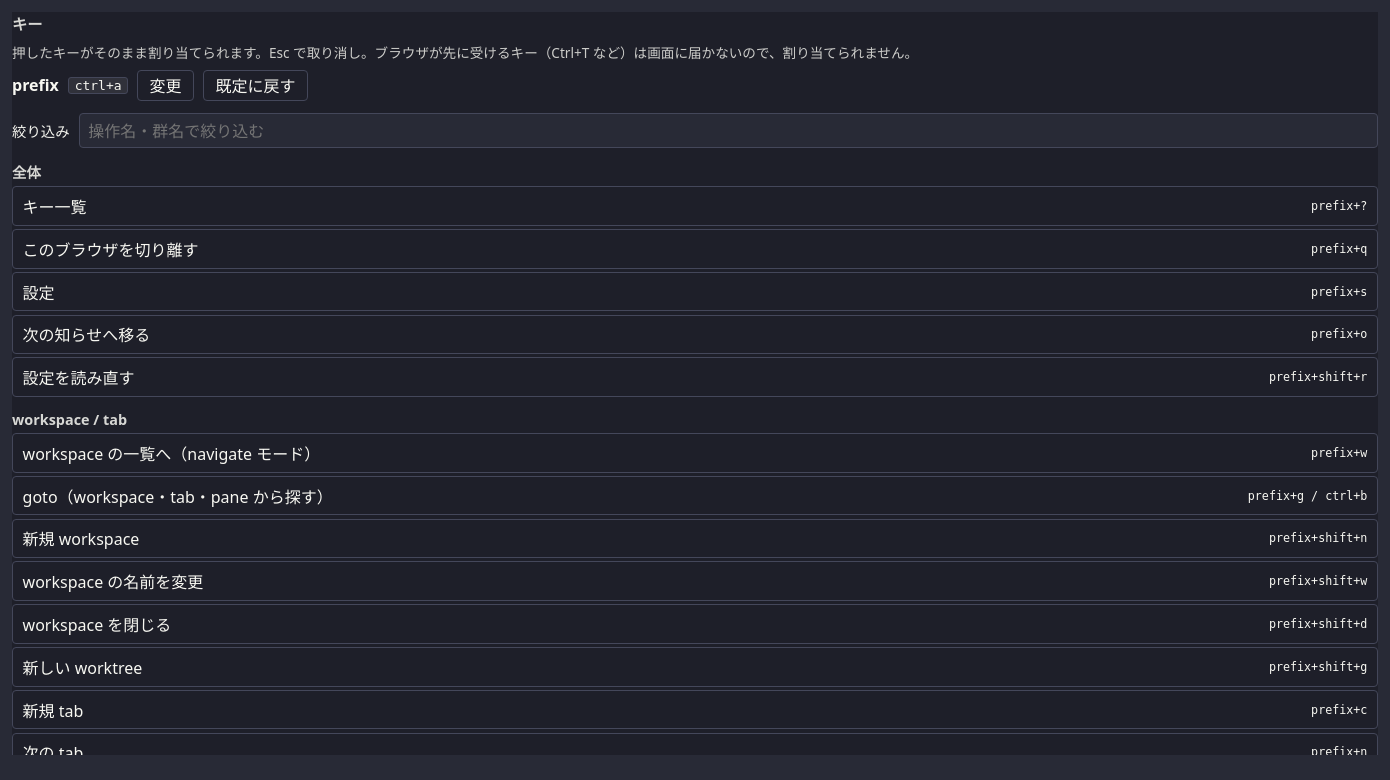
Test: KeySettings — prefix の既定へ戻す（AC9） › 既定の ctrl+b が直接のキー・prefix の後のキーに使われていれば戻さず、理由（持ち主の名前）を出す
The image size is (1390, 780).
Click the button "既定に戻す".
click(256, 85)  # box [203,70,308,101]
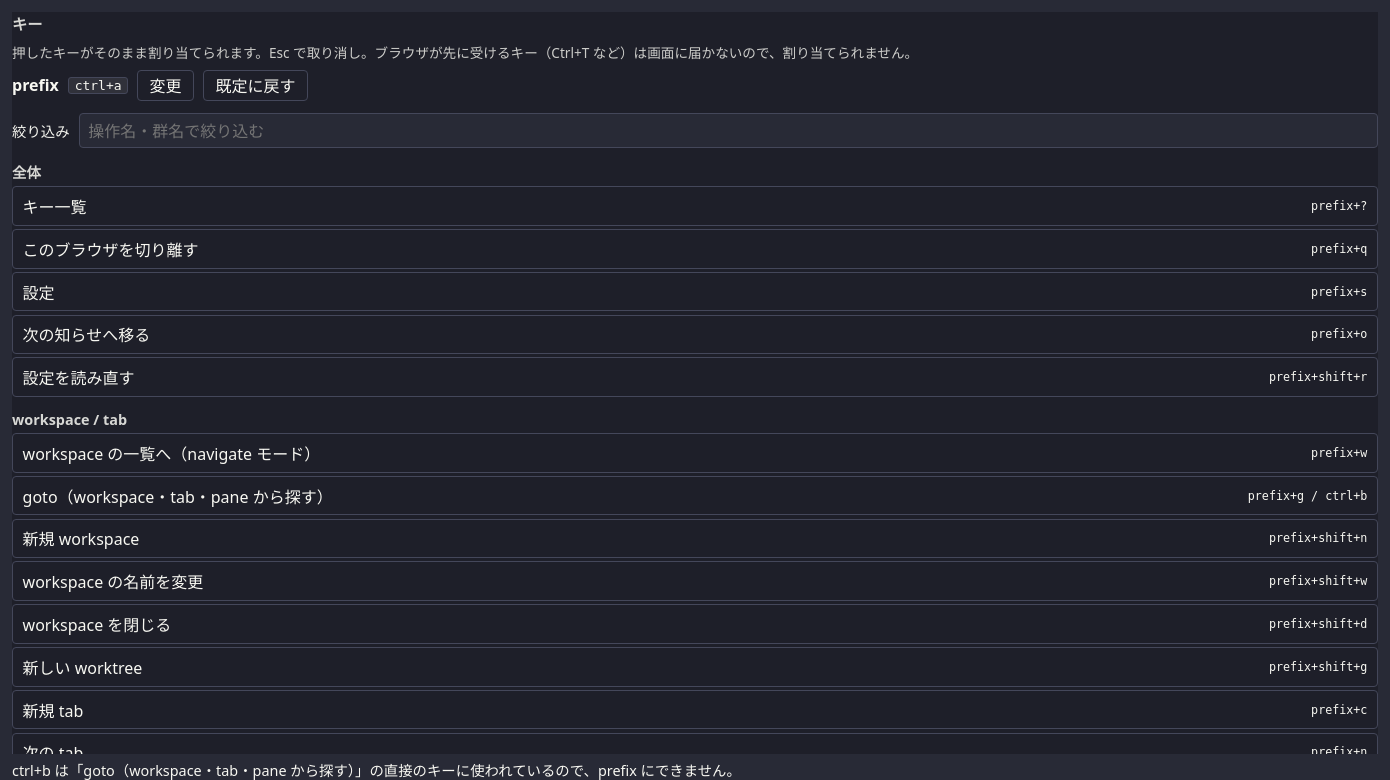
Check: the text "ctrl+a" is shown, box [68,77,128,94]
Check: the message "ctrl+b は「goto（workspace・tab・pane から探す）」の直接のキーに使われているので、prefix にできません。" is shown, box [12,761,741,779]
